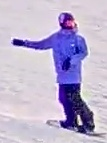snowboarder: (12, 13, 106, 136)
